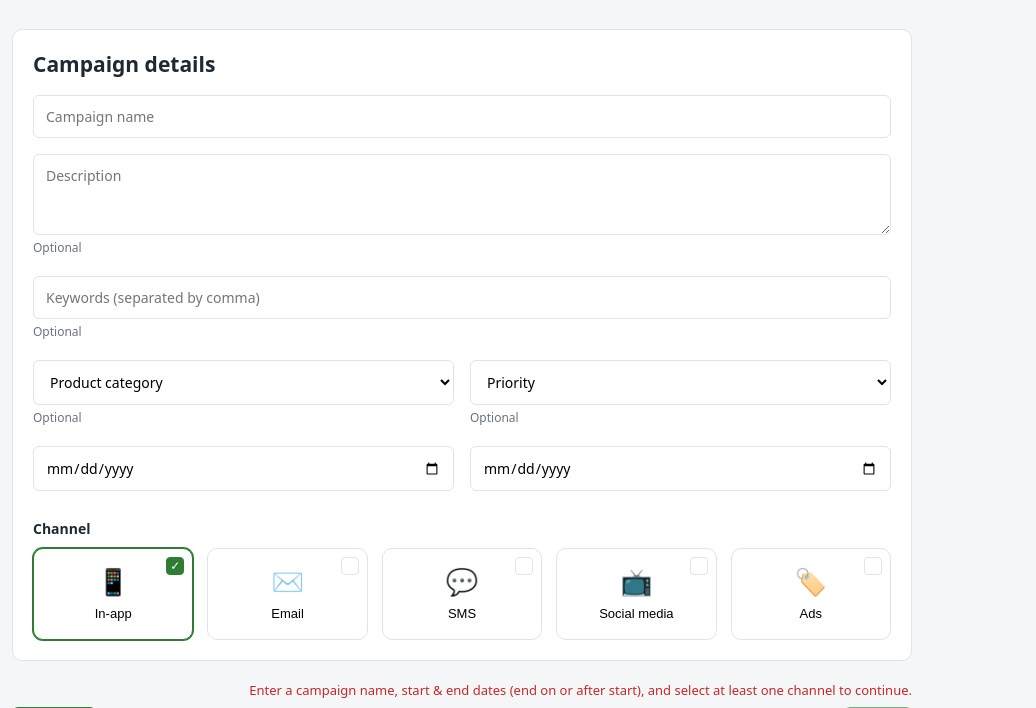
Test: Next is disabled until required Setup fields are valid (GR-004)
This screenshot has width=1036, height=708.
Step 1. Type "My Campaign" into the field with placeholder "Campaign name" → (462, 117), box 33,95 -> 891,138
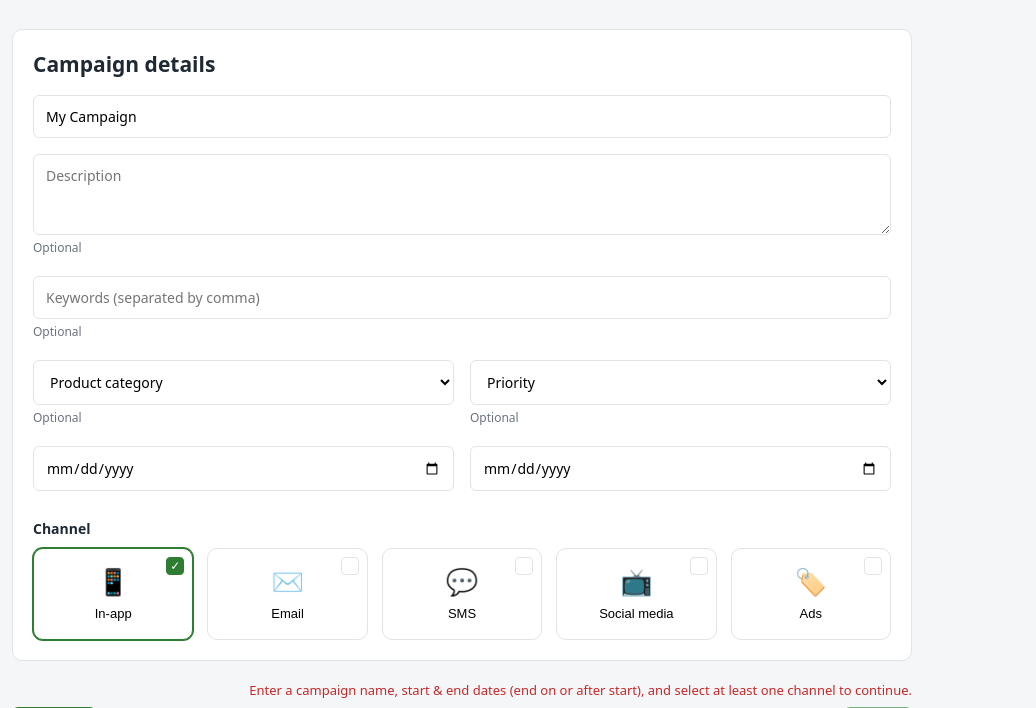
Step 2. Type "2026-07-01" into the date field with placeholder "Start date" → (244, 469), box 33,446 -> 454,491
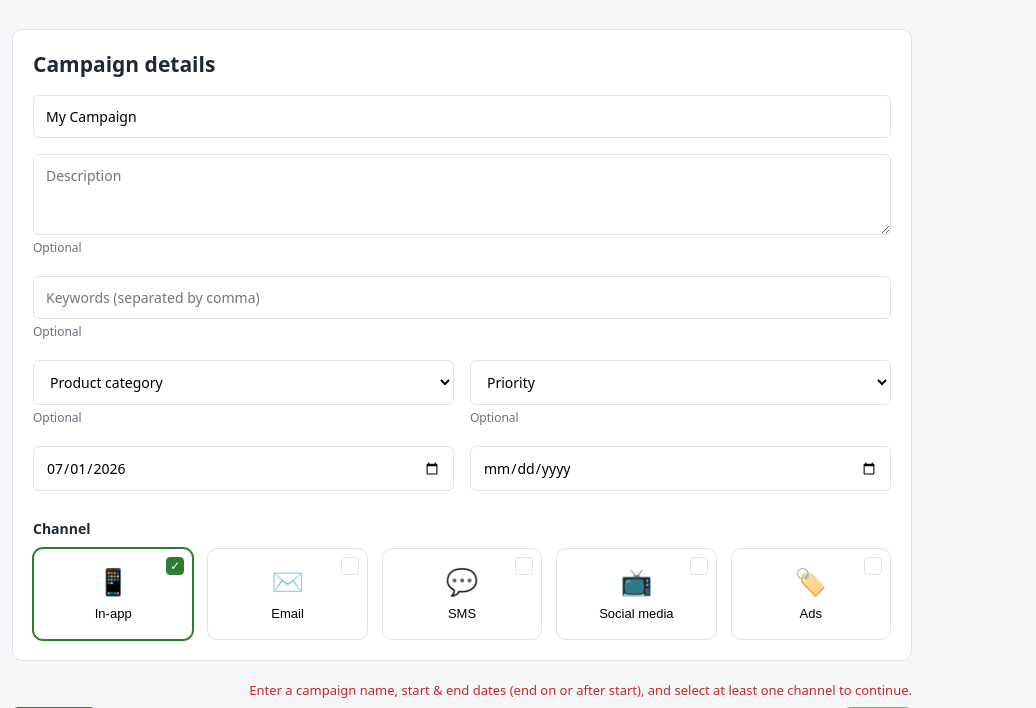
Step 3. Type "2026-08-01" into the date field with placeholder "End date" → (680, 469), box 470,446 -> 891,491
(page scrolled)
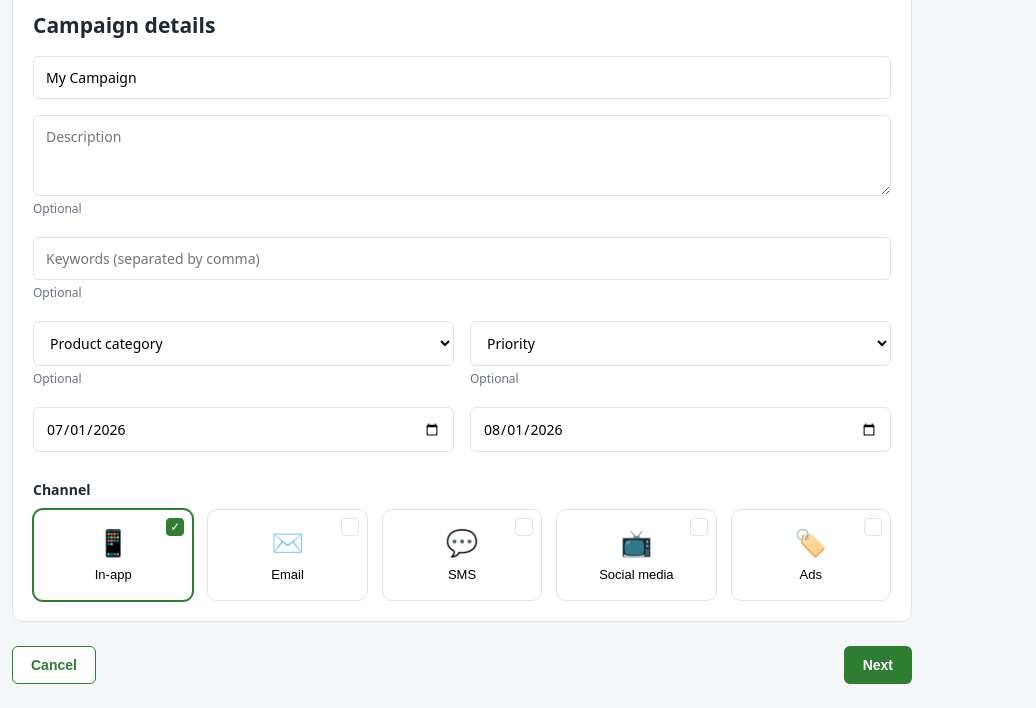
expect the button "Next" is enabled: met, box 844,646 -> 912,684
